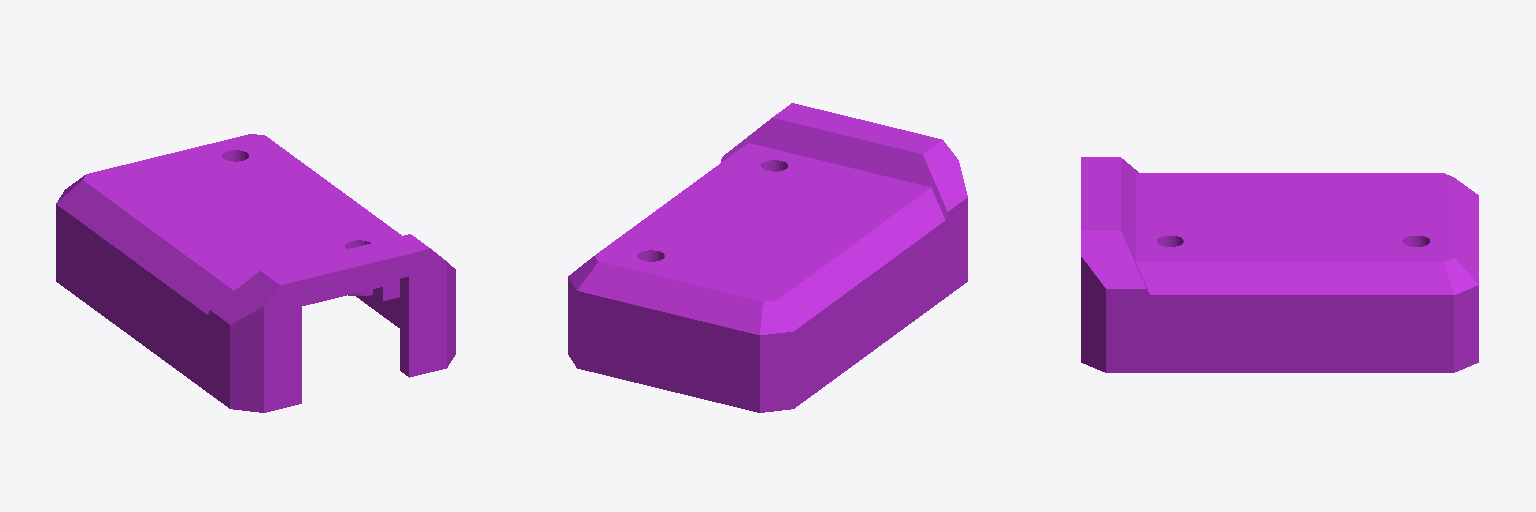
The model's file is extension-top.obj.
3 renders of one model, left to right at view 1: azimuth 30°, elevation 25°; view 2: azimuth 150°, elevation 25°; view 3: azimuth 270°, elevation 25°, orthographic.
Visible parts, largest first — view 1: Body2; view 2: Body2; view 3: Body2.
Boxes of the visible parts, x1,y1,x2,y2 form: Body2: [56, 134, 455, 412]; Body2: [568, 103, 967, 412]; Body2: [1081, 157, 1478, 372].
Size of the model in its own units: 21 by 11 by 32.1.